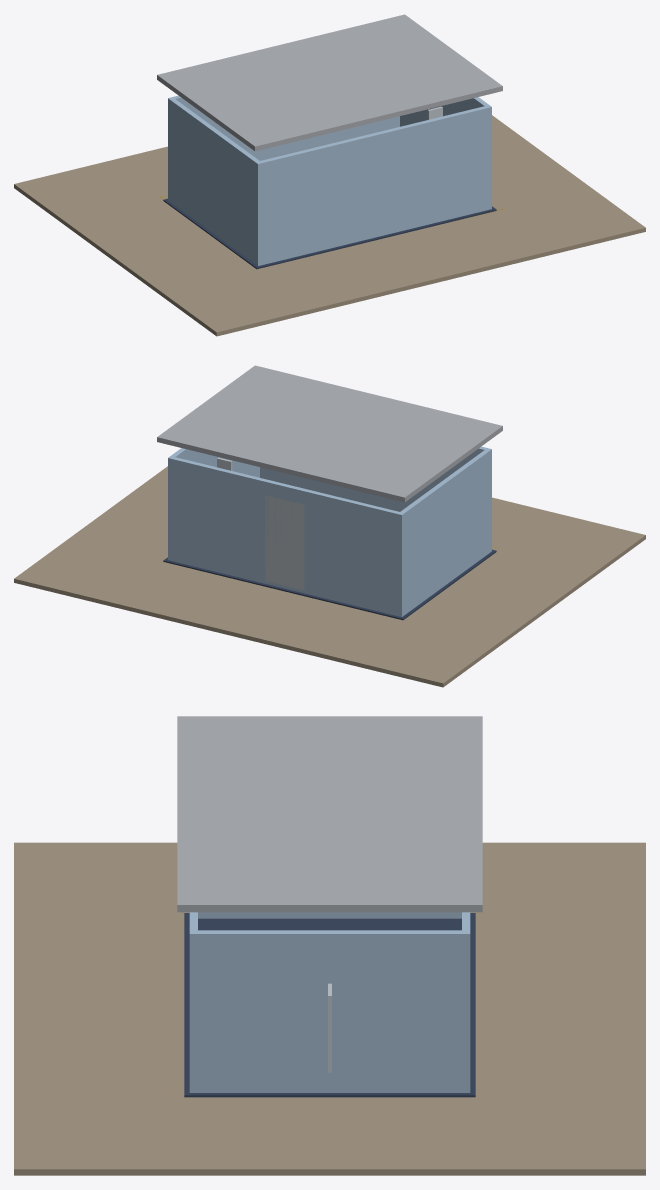
Rendered from stage_10_roof_covering.glb.
3 renders of one model, top to bottom at view 1: azimuth 30°, elevation 25°; view 2: azimuth 150°, elevation 25°; view 3: azimuth 270°, elevation 25°, orthographic. The views are drawn at different scales.
Parts seen in each view (by area): view 1: world; view 2: world; view 3: world.
Part boxes in pixels (x1,y1,x2,y2): world: [14, 14, 645, 336]; world: [14, 365, 645, 687]; world: [14, 716, 645, 1175].
Size of the model in its own units: 11 by 3.87 by 9.
